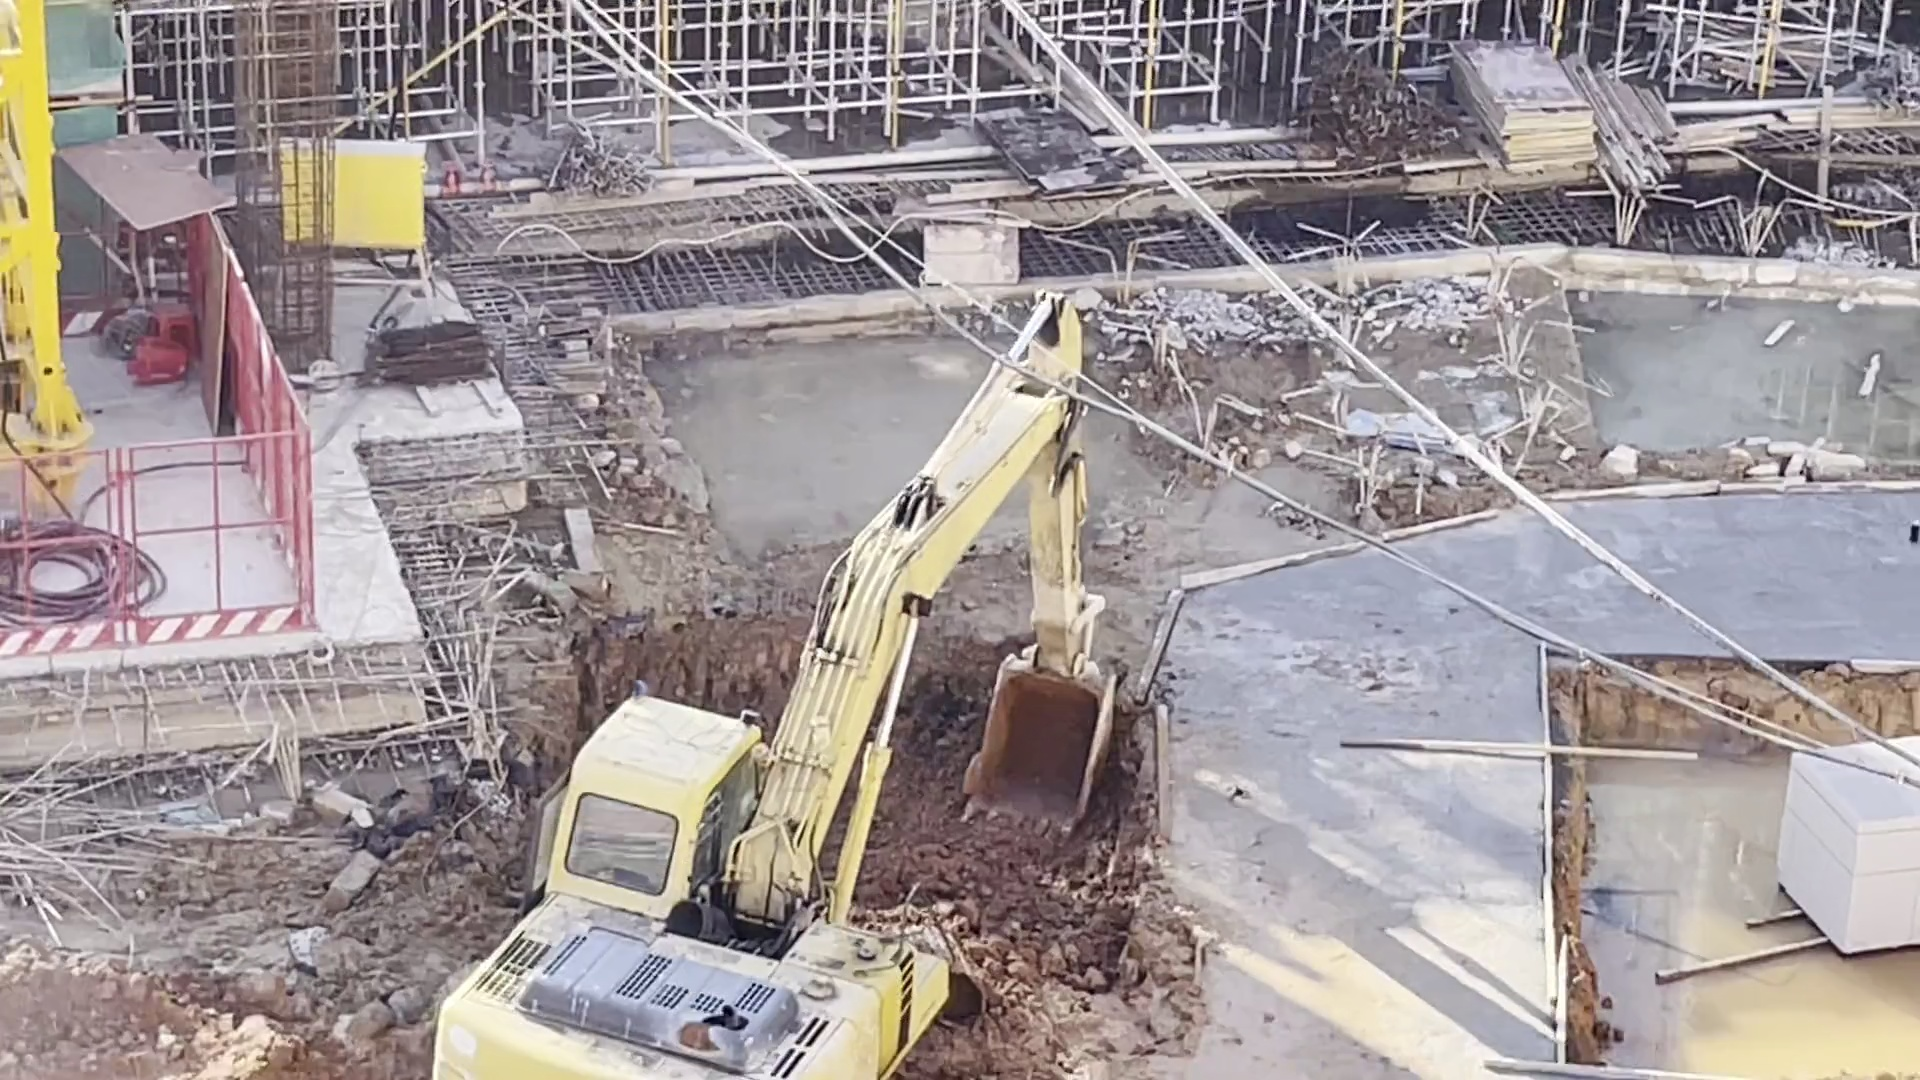board: (1447, 37, 1601, 179)
brick: (1762, 786, 1920, 961)
ebox: (332, 132, 444, 324)
fence: (17, 433, 303, 645), (225, 269, 309, 593)
